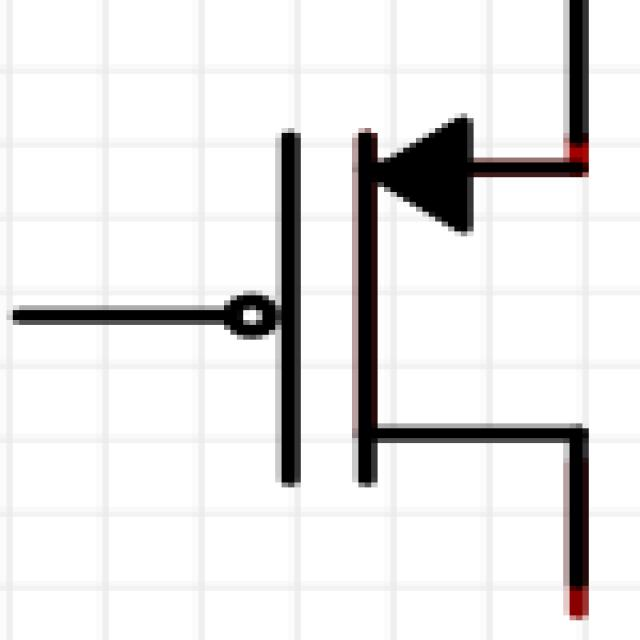pmos: (51, 0, 640, 640)
